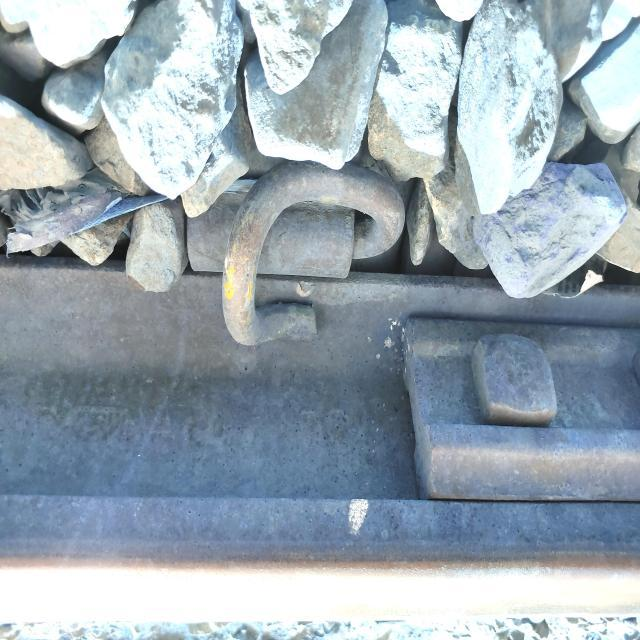Good Fasteners: (153, 147, 436, 374)
